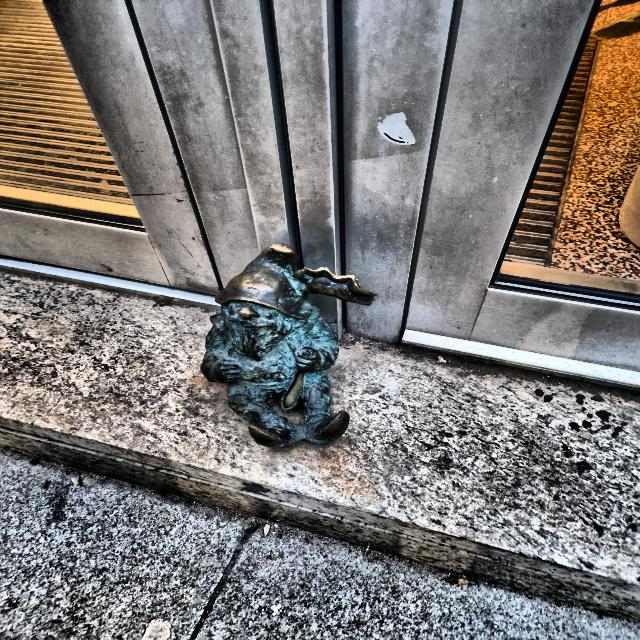Pieroznik: (200, 244, 377, 449)
